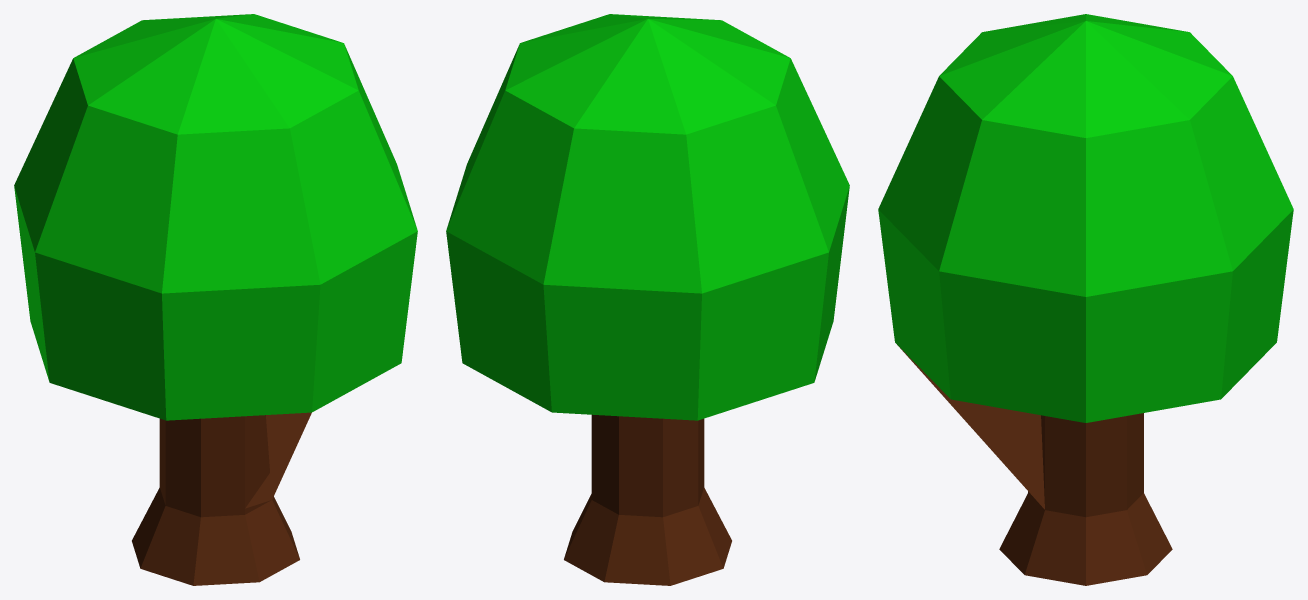
The model's file is tree.obj.
3 renders of one model, left to right at view 1: azimuth 30°, elevation 25°; view 2: azimuth 150°, elevation 25°; view 3: azimuth 270°, elevation 25°, orthographic.
Parts seen in each view (by area): view 1: Sphere; view 2: Sphere; view 3: Sphere.
Part boxes in pixels (x1,y1,x2,y2): Sphere: (14,14,417,585); Sphere: (446,14,849,585); Sphere: (878,14,1293,585).
Bounding box in the file's own units: 4 × 5.61 × 4.
